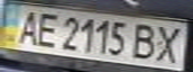1: (93, 17, 112, 55), (78, 16, 96, 54)
2: (57, 14, 81, 52)
5: (109, 18, 133, 57)
A: (9, 8, 45, 45)
B: (127, 20, 163, 61)
E: (30, 10, 63, 48)
X: (148, 22, 190, 65)
